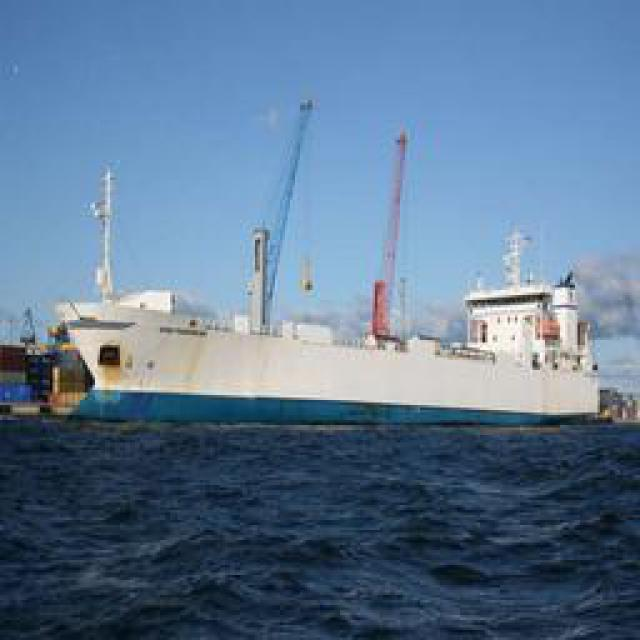Ship: (30, 99, 608, 429)
